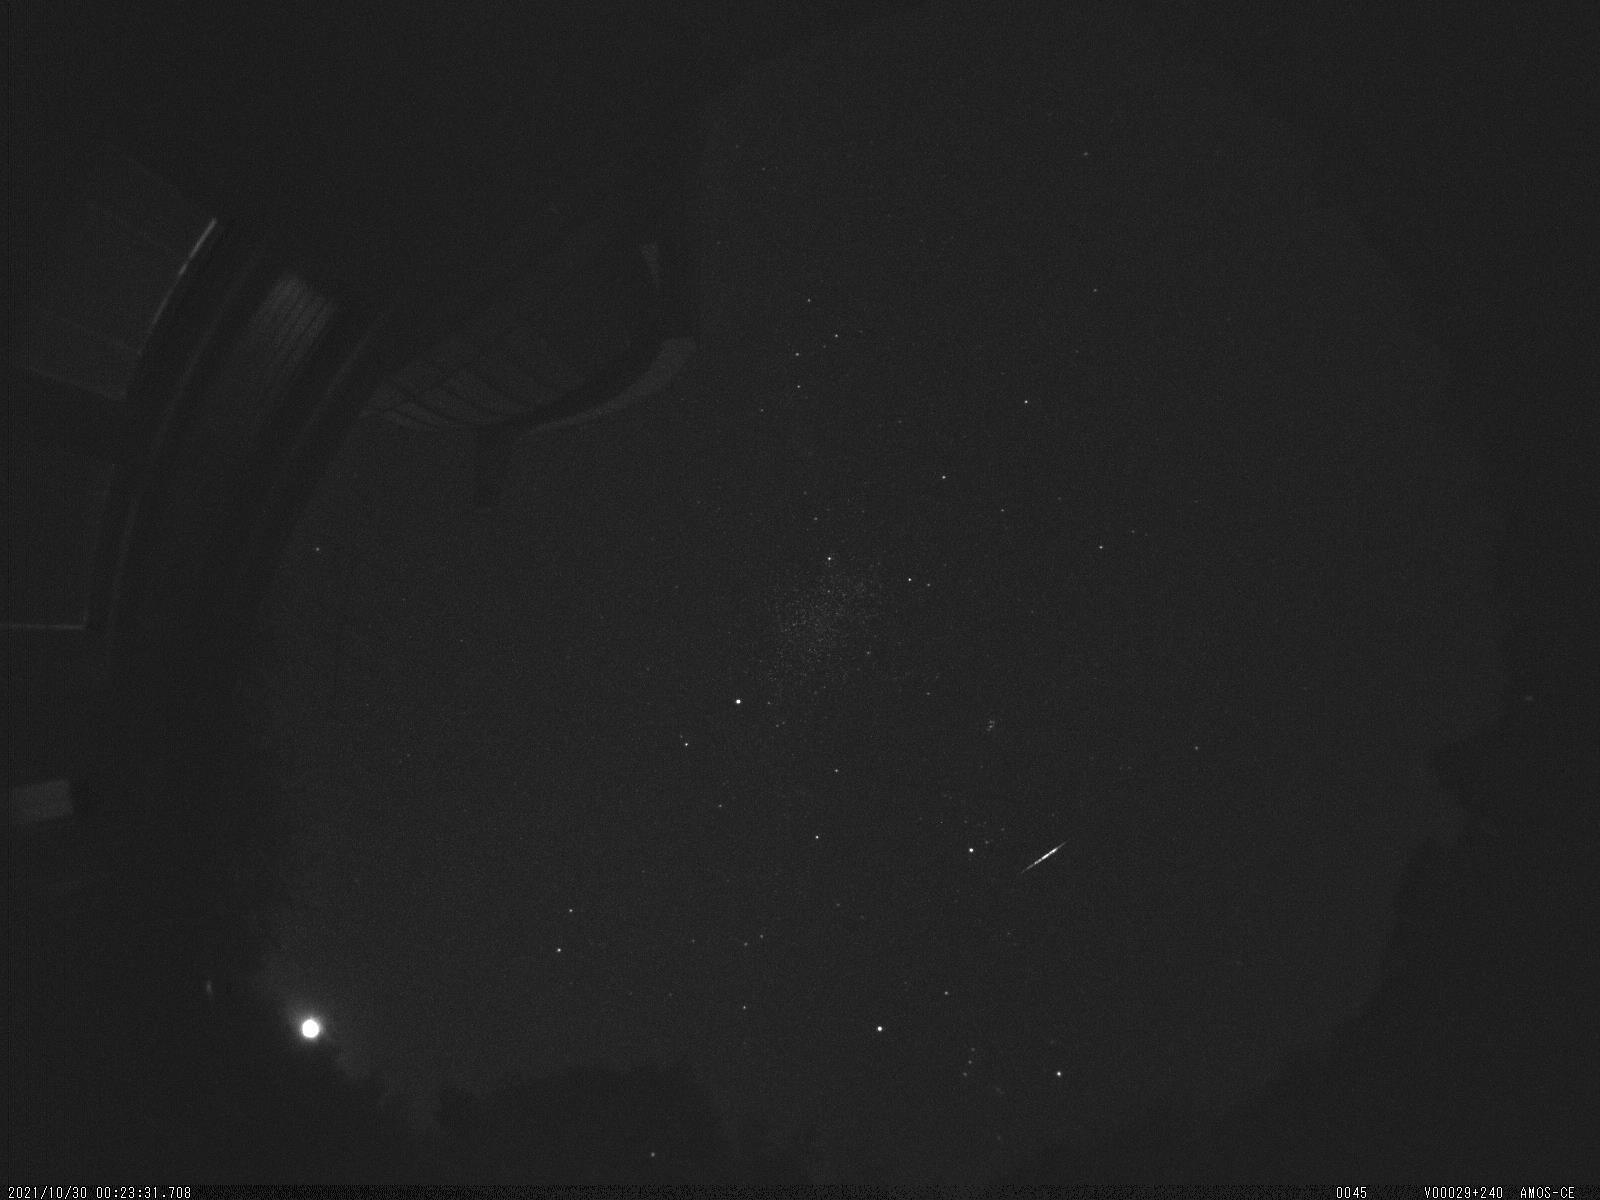Meteor: (1017, 835, 1077, 876)
